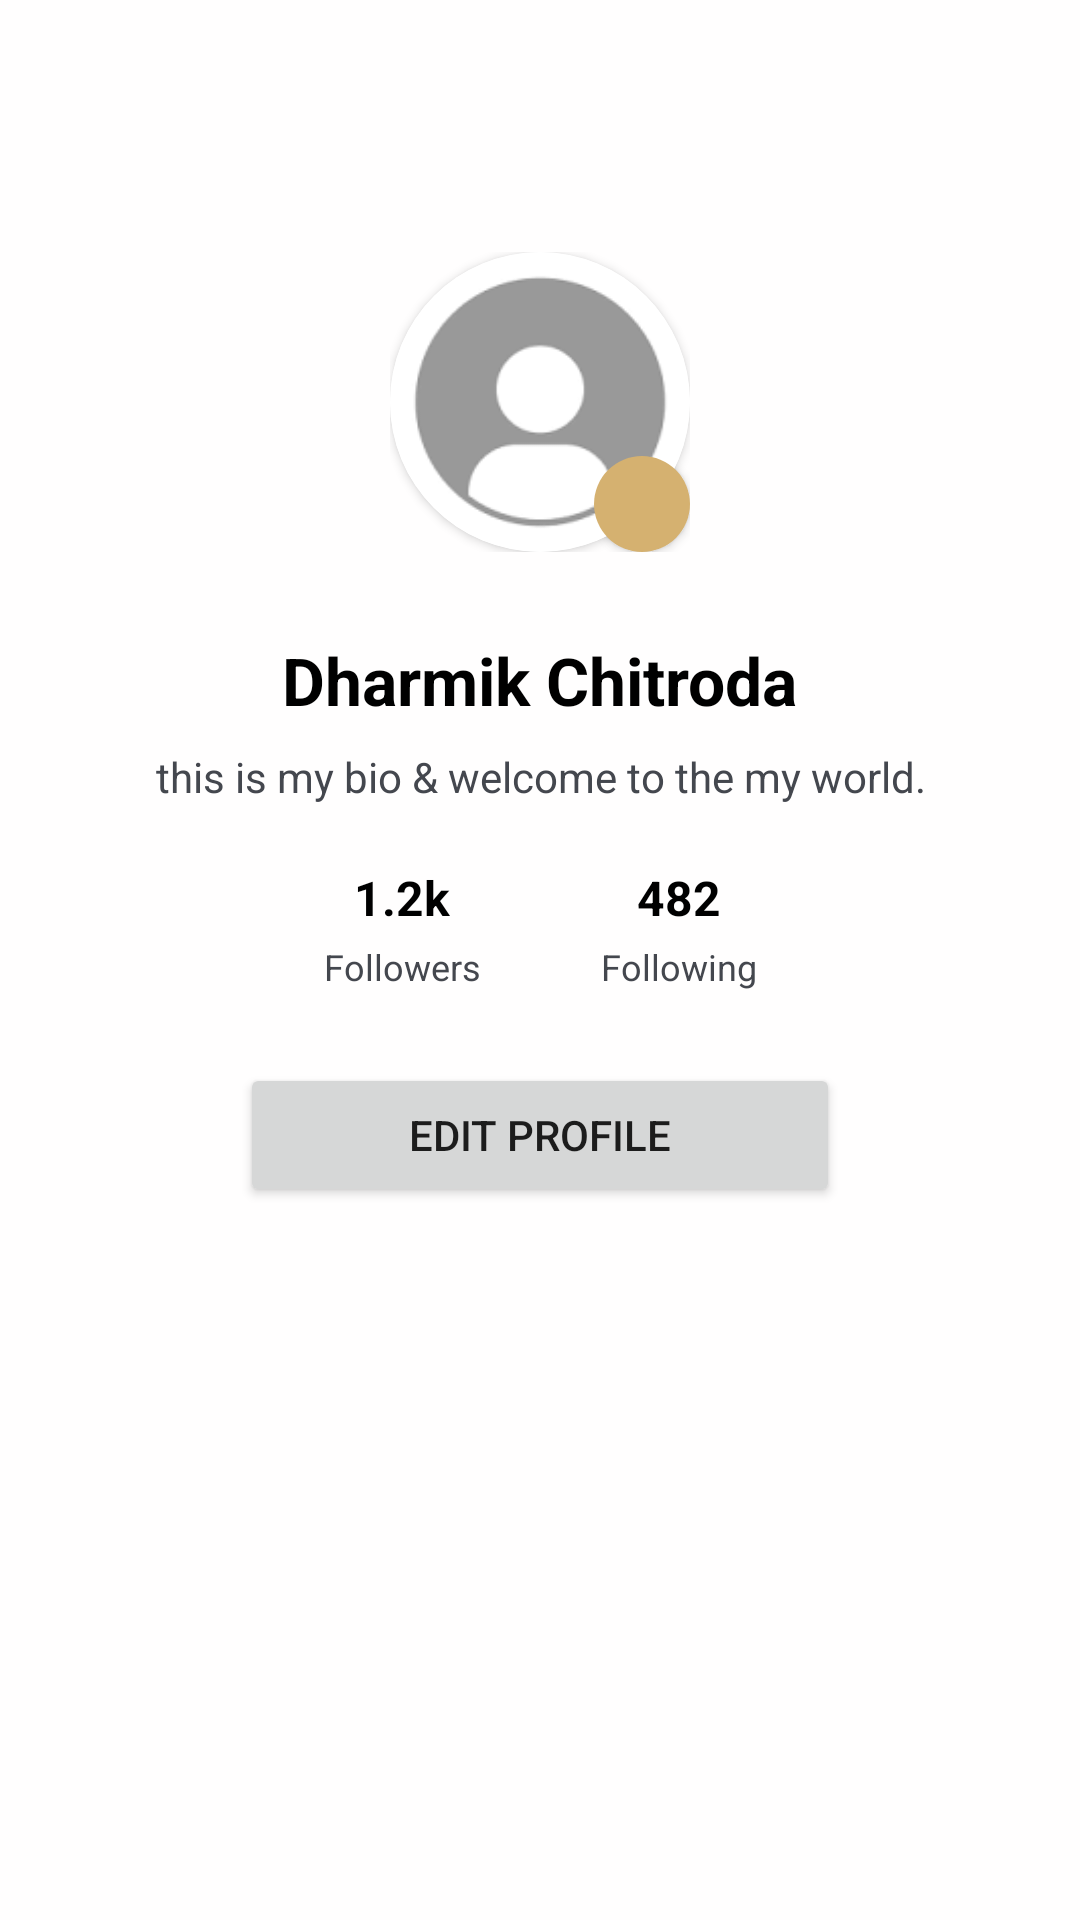

Point at icon controls on the screen. Image size 1080*1920, points as point (x, y).
Profile picture: point (549, 414)
